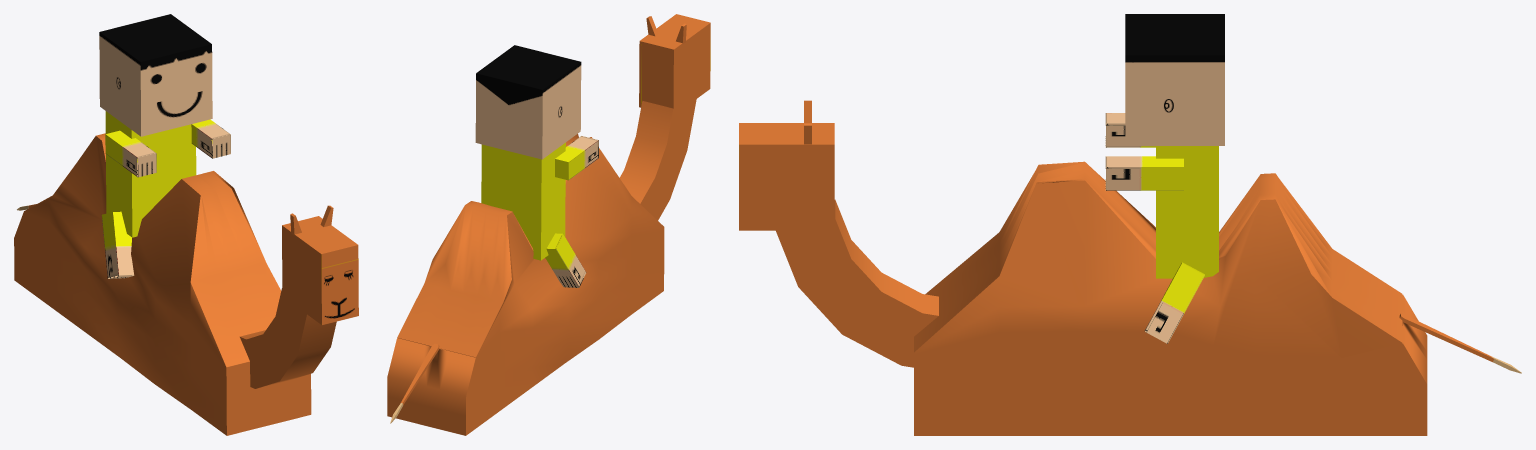
File: RakudaB.FBX
The picture shows the model from 3 angles, left to right: view 1: azimuth 30°, elevation 25°; view 2: azimuth 150°, elevation 25°; view 3: azimuth 270°, elevation 25°; orthographic projection. The views are drawn at different scales.
Parts seen in each view (by area): view 1: Box001, Box013, Box002, Box014, Tube001, Box020, Box016, Box019; view 2: Box001, Box013, Box014, Box002, Tube001, Box020, Box016, Box008; view 3: Box001, Box013, Tube001, Box002, Box014, Box019, Box021, Box016.
Part boxes in pixels (left/top/right/bottom): Box001: left=14, top=133, right=311, bottom=435; Box013: left=99, top=14, right=212, bottom=136; Box002: left=282, top=216, right=358, bottom=324; Box014: left=105, top=111, right=196, bottom=237; Tube001: left=240, top=288, right=336, bottom=388; Box020: left=101, top=211, right=134, bottom=278; Box016: left=105, top=130, right=156, bottom=177; Box019: left=191, top=119, right=230, bottom=158; Box001: left=387, top=134, right=664, bottom=435; Box013: left=475, top=45, right=581, bottom=159; Box014: left=481, top=142, right=565, bottom=260; Box002: left=639, top=14, right=710, bottom=108; Tube001: left=619, top=99, right=696, bottom=220; Box020: left=545, top=233, right=586, bottom=287; Box016: left=555, top=136, right=598, bottom=180; Box008: left=401, top=343, right=439, bottom=404; Box001: left=914, top=161, right=1427, bottom=435; Box013: left=1125, top=14, right=1224, bottom=145; Tube001: left=776, top=199, right=938, bottom=367; Box002: left=739, top=123, right=834, bottom=230; Box014: left=1156, top=146, right=1218, bottom=278; Box019: left=1105, top=156, right=1183, bottom=190; Box021: left=1144, top=262, right=1204, bottom=343; Box016: left=1105, top=113, right=1155, bottom=147.
Size of the model in its own units: 1.22 by 3.06 by 5.8.
Materials: 7 (7 with a texture image).
